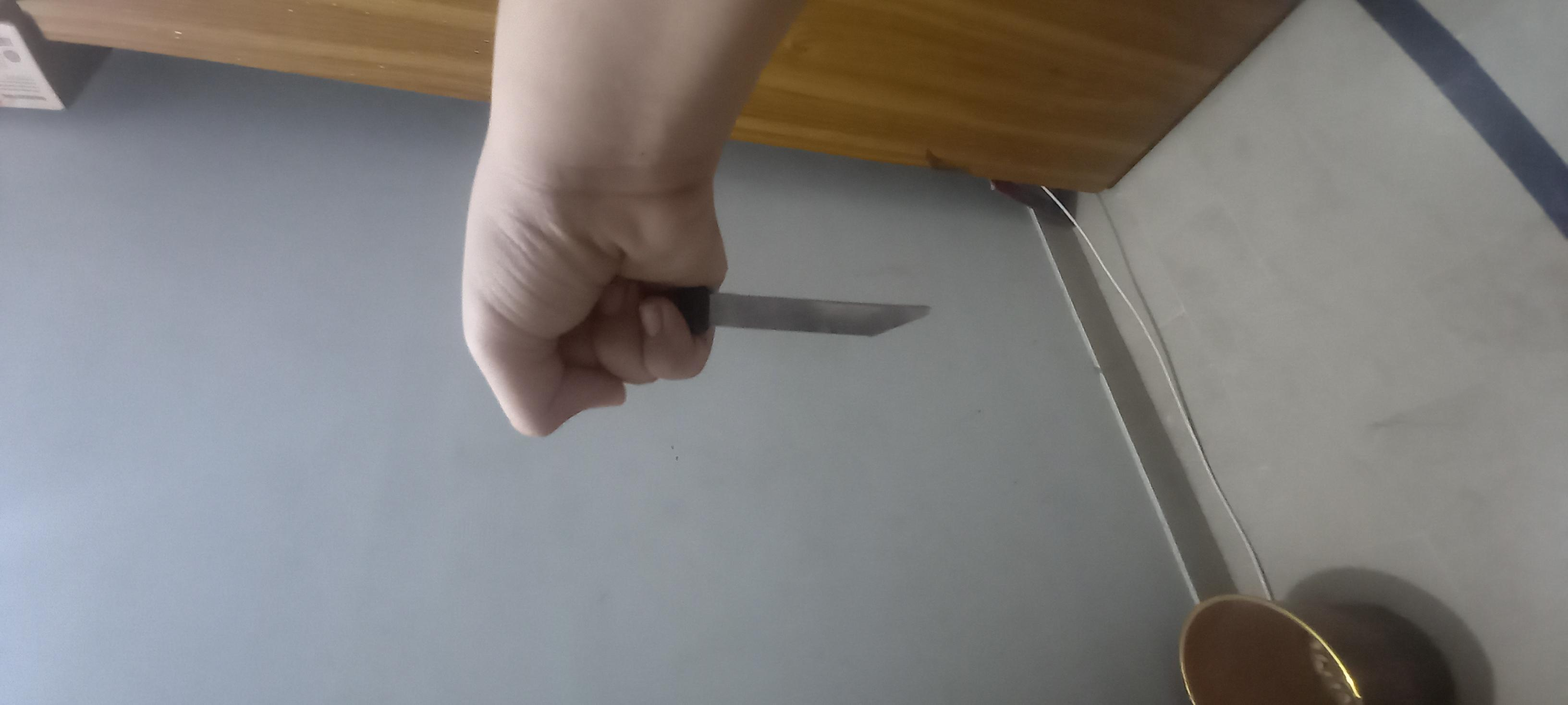knives: (772, 259, 978, 429)
